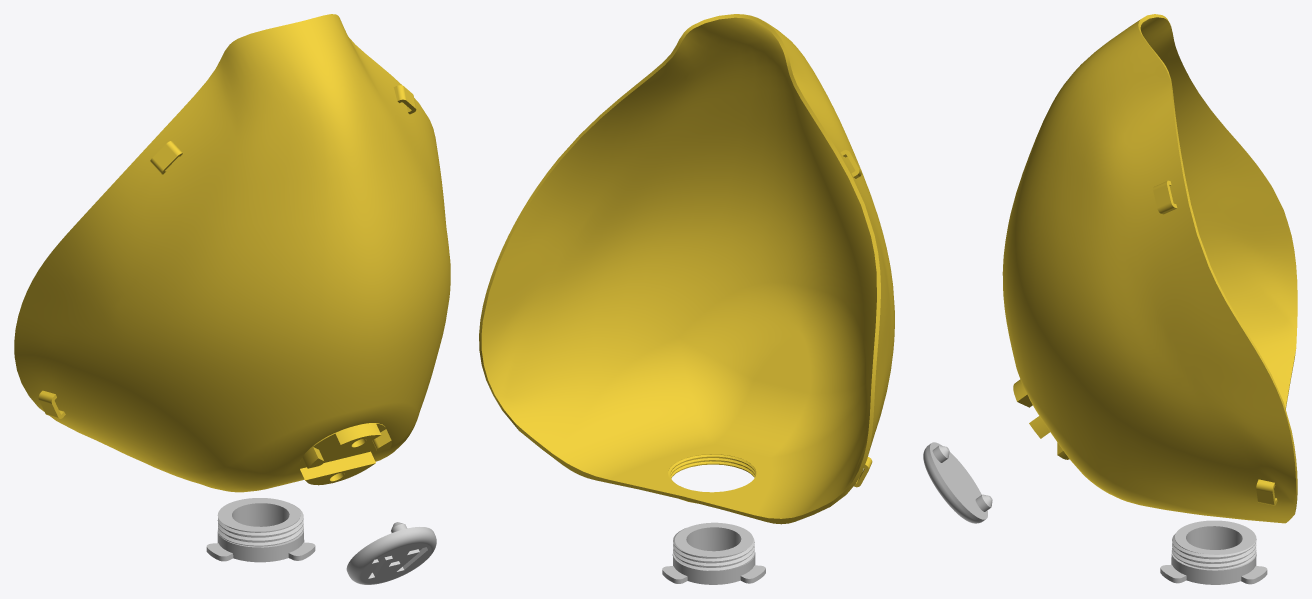
3 renders of one model, left to right at view 1: azimuth 30°, elevation 25°; view 2: azimuth 150°, elevation 25°; view 3: azimuth 270°, elevation 25°, orthographic. The views are drawn at different scales.
Visible parts, largest first — view 1: Body22, Body32, Body30; view 2: Body22, Body32; view 3: Body22, Body32, Body30.
Part boxes in pixels (bbox=[...]): Body22: bbox=[14, 14, 450, 492]; Body32: bbox=[206, 498, 315, 562]; Body30: bbox=[346, 522, 436, 584]; Body22: bbox=[479, 14, 894, 524]; Body32: bbox=[662, 522, 765, 584]; Body22: bbox=[1002, 14, 1297, 523]; Body32: bbox=[1160, 520, 1267, 584]; Body30: bbox=[923, 442, 992, 523].
Size of the model in its own units: 176 by 225 by 141.
